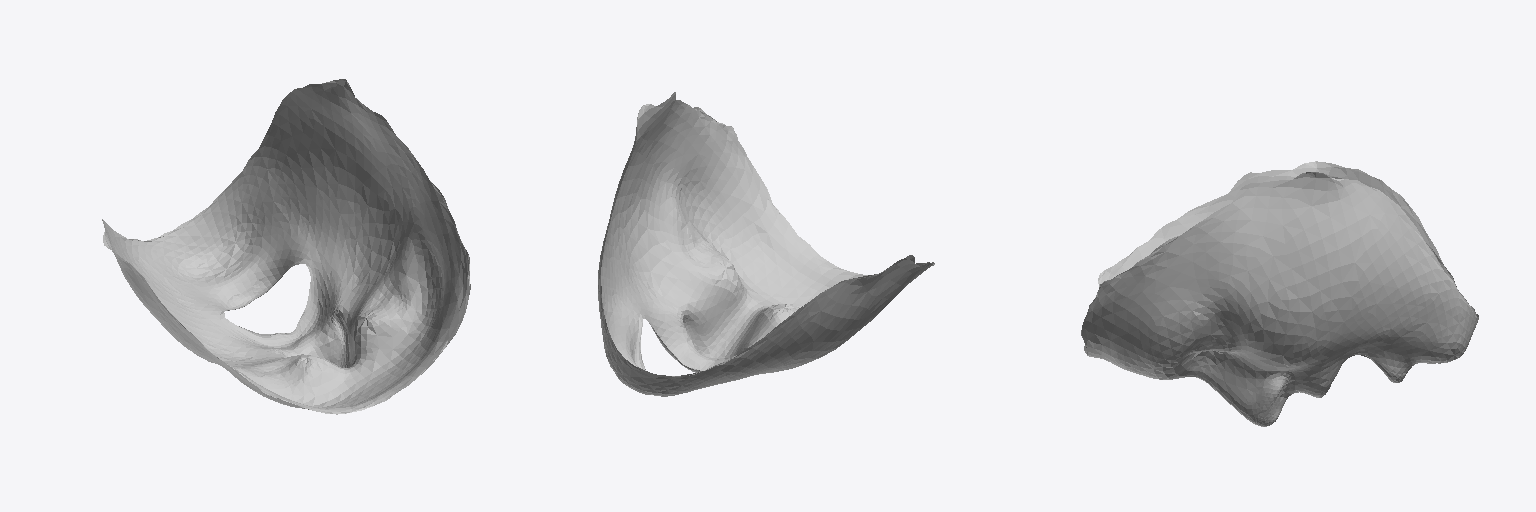
File: face_gab_sfm69.obj
The picture shows the model from 3 angles: view 1: azimuth 30°, elevation 25°; view 2: azimuth 150°, elevation 25°; view 3: azimuth 270°, elevation 25°; orthographic projection.
Bounding box in the file's own units: 167 × 164 × 216.